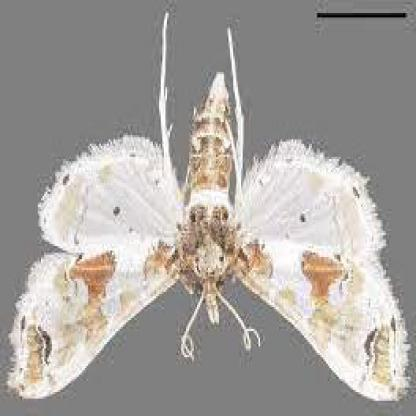leucinodes: (9, 19, 410, 405)
